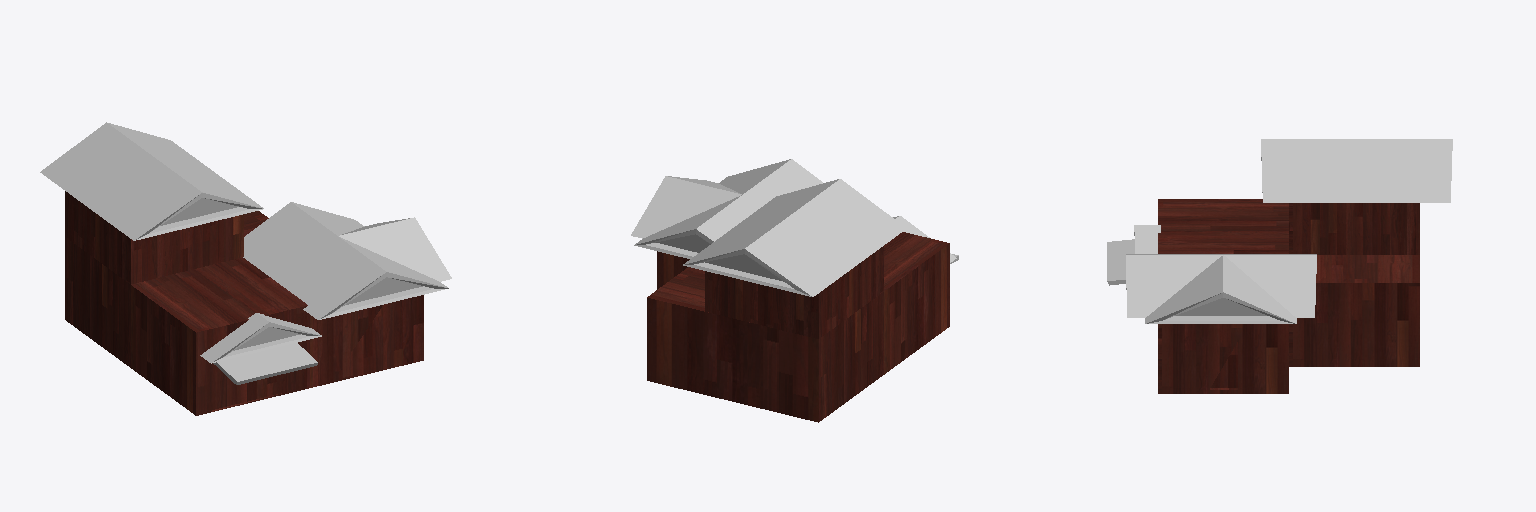
The picture shows the model from 3 angles: view 1: azimuth 30°, elevation 25°; view 2: azimuth 150°, elevation 25°; view 3: azimuth 270°, elevation 25°; orthographic projection.
Parts seen in each view (by area): view 1: Sala2_Cube.002, Plane.001_Plane.006, TechoTriangular1_Plane, Sala2.001_Cube.007, Sala1_Cube, Sala3_Cube.005, TechoTriangular2_Plane.002, TechoTriangular1.002_Plane.005, PuertaCochera_Cube.004, Plane.002_Plane.003; view 2: Sala3_Cube.005, Plane.001_Plane.006, Sala2.001_Cube.007, Sala2_Cube.002, TechoTriangular1_Plane, TechoTriangular2_Plane.002, Plane.002_Plane.003, Sala1_Cube; view 3: Sala3_Cube.005, Plane.001_Plane.006, Sala1_Cube, Sala2_Cube.002, Sala2.001_Cube.007, TechoTriangular2_Plane.002, TechoTriangular1_Plane, Plane.002_Plane.003, PuertaCochera_Cube.004, TechoTriangular1.002_Plane.005.
Boxes of the visible parts, x1,y1,x2,y2 form: Sala2_Cube.002: [131, 257, 309, 415]; Plane.001_Plane.006: [40, 122, 263, 240]; TechoTriangular1_Plane: [246, 213, 448, 319]; Sala2.001_Cube.007: [65, 191, 243, 284]; Sala1_Cube: [310, 295, 423, 387]; Sala3_Cube.005: [65, 211, 268, 367]; TechoTriangular2_Plane.002: [339, 217, 451, 281]; TechoTriangular1.002_Plane.005: [200, 313, 321, 363]; PuertaCochera_Cube.004: [213, 343, 317, 384]; Plane.002_Plane.003: [243, 202, 364, 258]; Sala3_Cube.005: [647, 267, 883, 422]; Plane.001_Plane.006: [683, 179, 906, 296]; Sala2.001_Cube.007: [705, 246, 883, 338]; Sala2_Cube.002: [884, 232, 949, 374]; TechoTriangular1_Plane: [661, 159, 822, 230]; TechoTriangular2_Plane.002: [631, 176, 741, 238]; Plane.002_Plane.003: [634, 218, 728, 258]; Sala1_Cube: [657, 251, 689, 289]; Sala3_Cube.005: [1289, 255, 1419, 366]; Plane.001_Plane.006: [1261, 139, 1452, 202]; Sala1_Cube: [1158, 324, 1288, 393]; Sala2_Cube.002: [1158, 199, 1288, 253]; Sala2.001_Cube.007: [1289, 203, 1419, 254]; TechoTriangular2_Plane.002: [1145, 255, 1296, 323]; TechoTriangular1_Plane: [1126, 254, 1285, 317]; Plane.002_Plane.003: [1285, 254, 1316, 317]; PuertaCochera_Cube.004: [1107, 239, 1134, 285]; TechoTriangular1.002_Plane.005: [1134, 225, 1160, 253].
Size of the model in its own units: 68.93 by 43.25 by 78.97.
Materials: 2 (1 with a texture image).